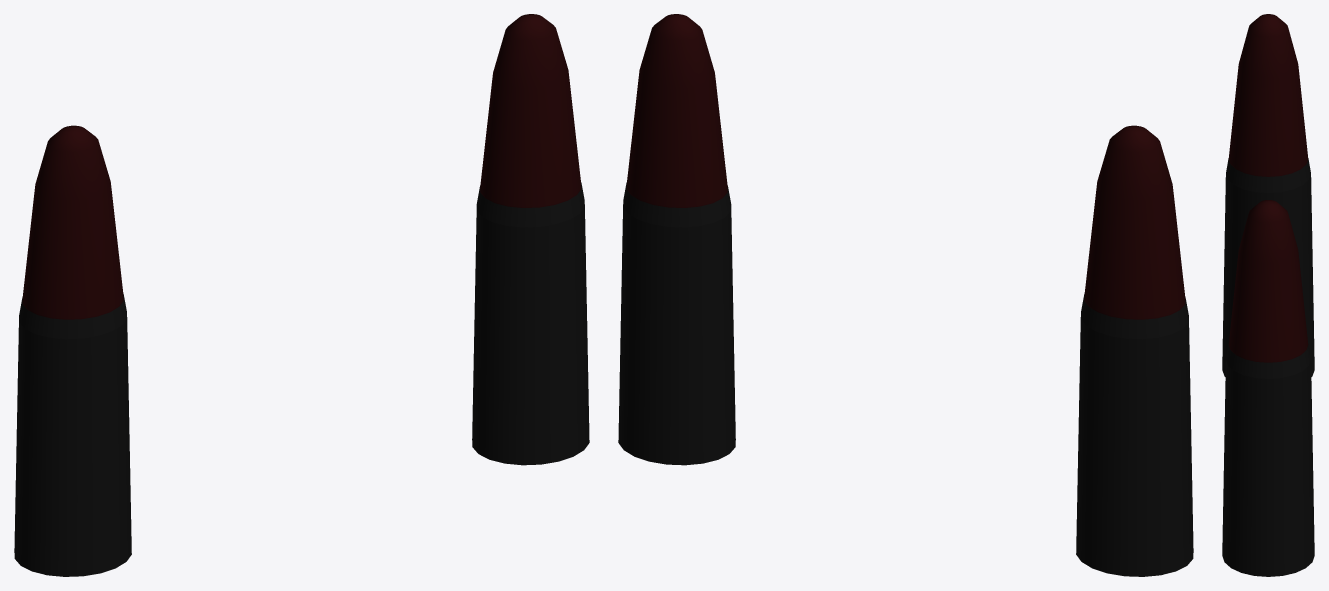
File: TurbinesTextured.fbx
3 views of the same model, side by side, from view 1: azimuth 30°, elevation 25°; view 2: azimuth 150°, elevation 25°; view 3: azimuth 270°, elevation 25° (orthographic). The views are drawn at different scales.
Parts seen in each view (by area): view 1: TurbineThrusters1 (×2); view 2: TurbineThrusters1 (×2); view 3: TurbineThrusters1 (×2).
Boxes of the visible parts, box(x1,y1,x2,y2) form: TurbineThrusters1 (×2): box(14, 14, 589, 576); TurbineThrusters1 (×2): box(618, 14, 1193, 576); TurbineThrusters1 (×2): box(1222, 14, 1314, 576).
Bounding box in the file's own units: 3.11 × 2.25 × 0.5319.
